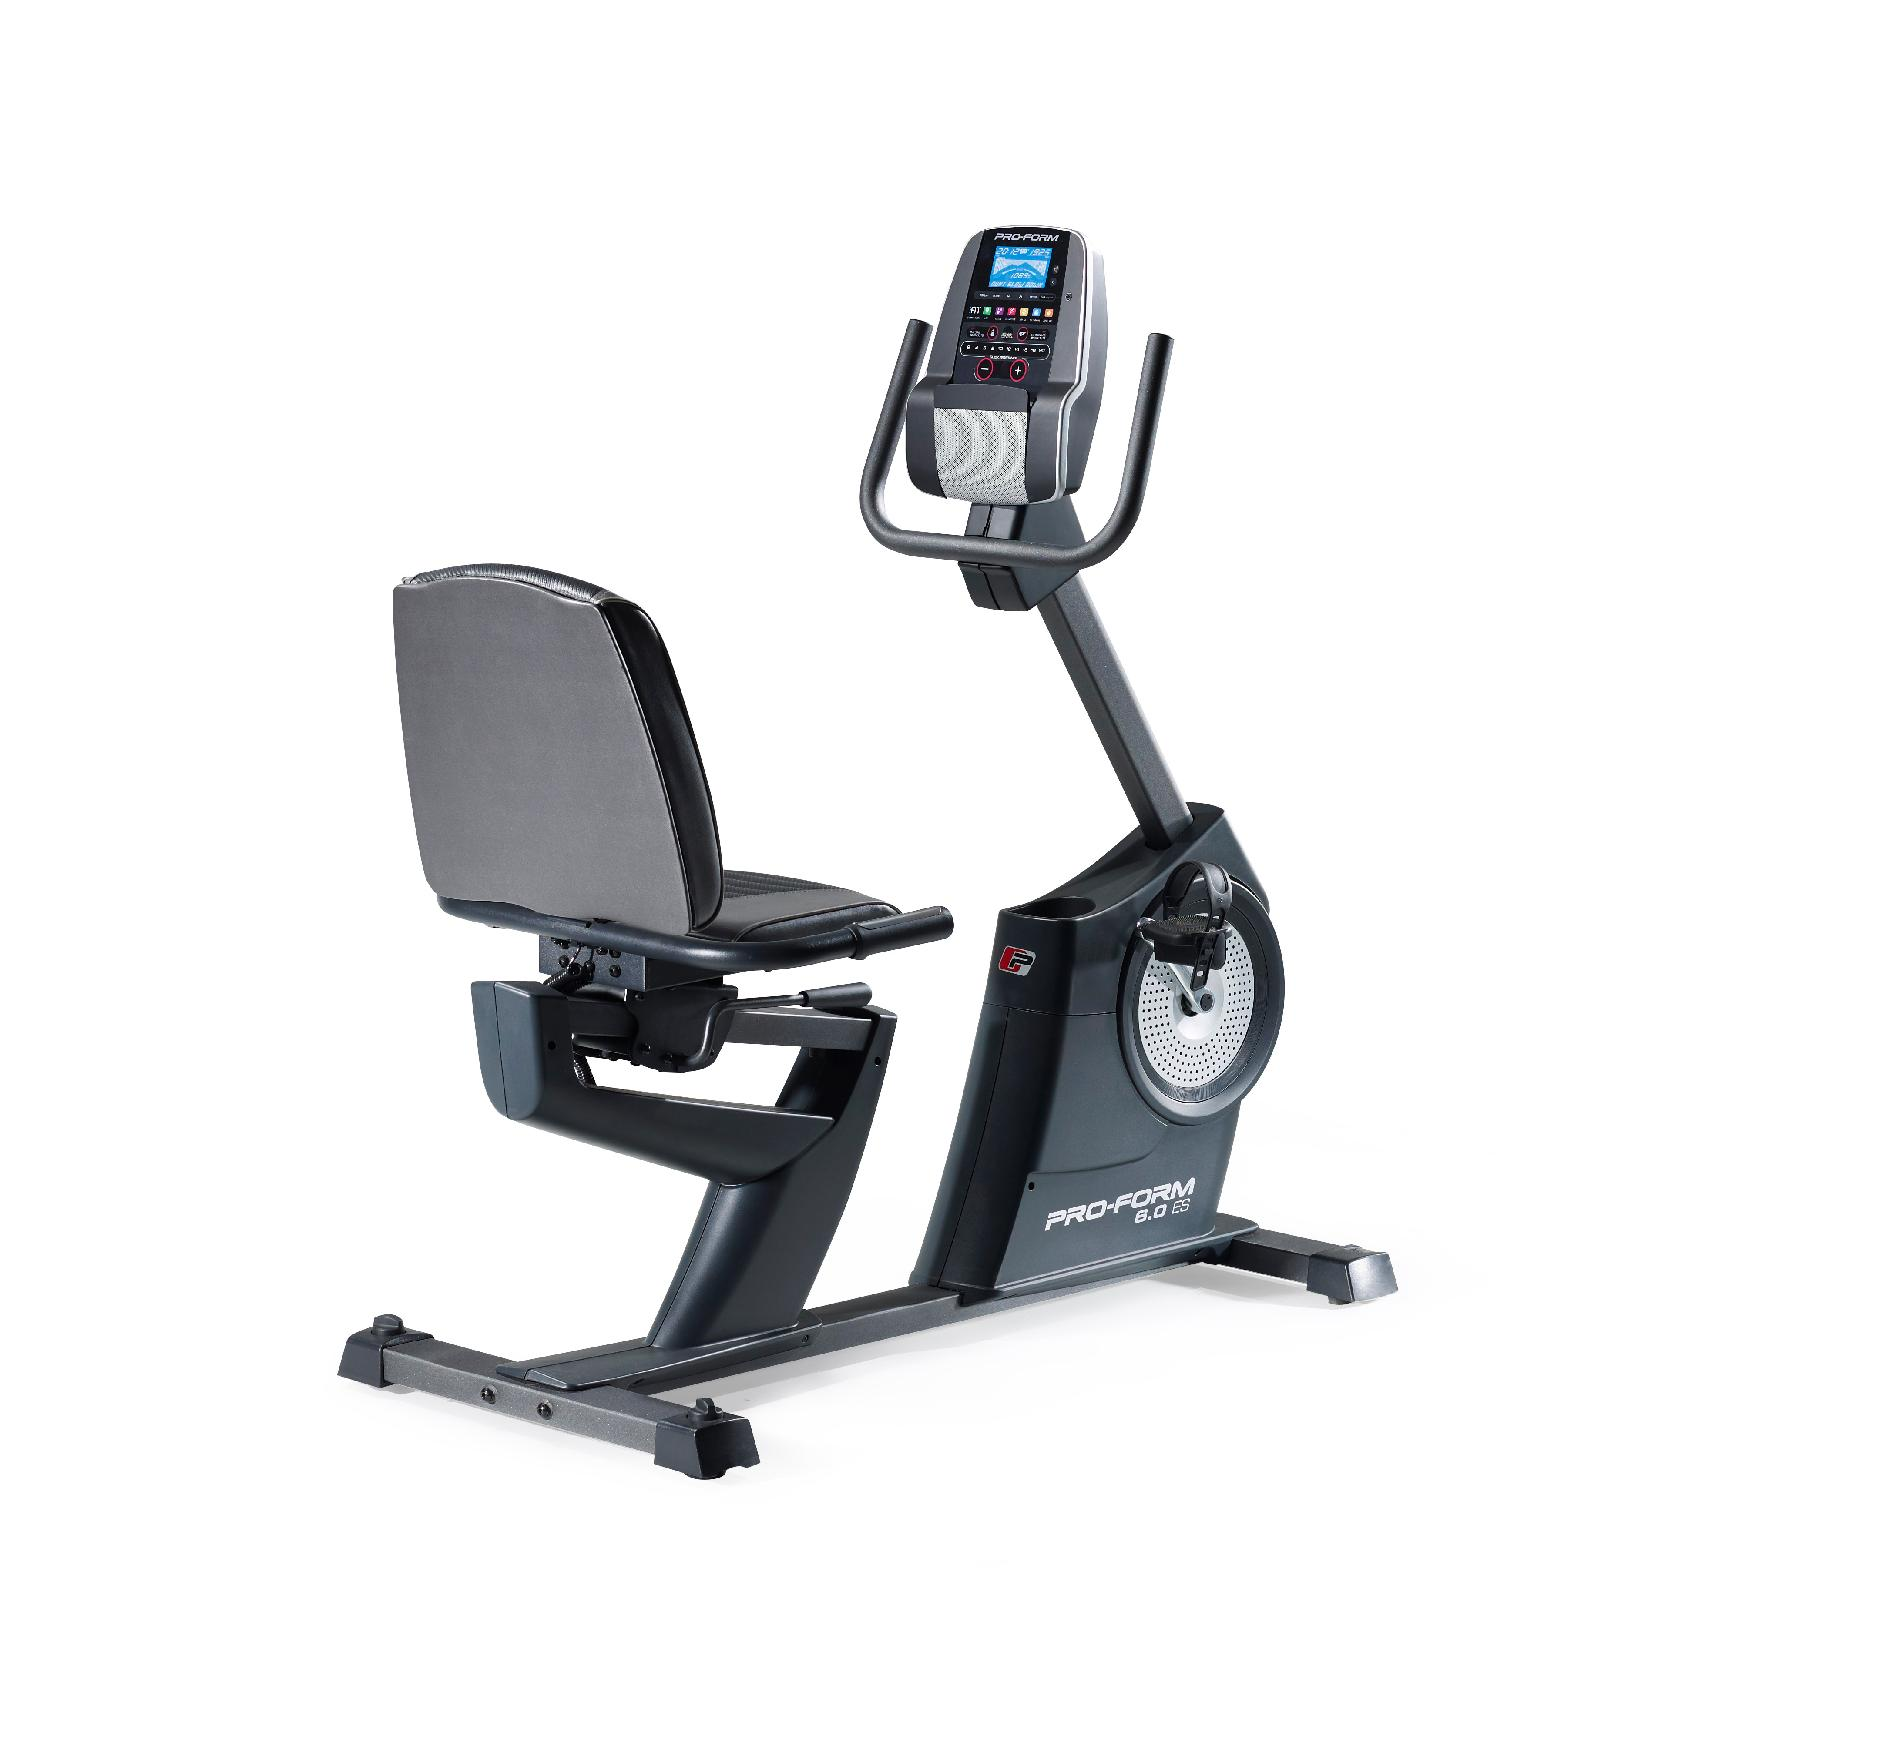gym_bike: (300, 199, 1390, 1405)
